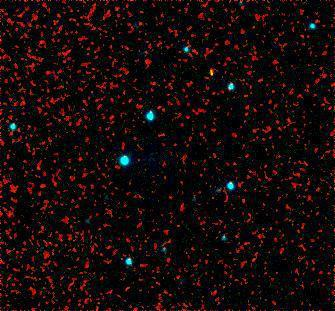star: (197, 59, 227, 89)
